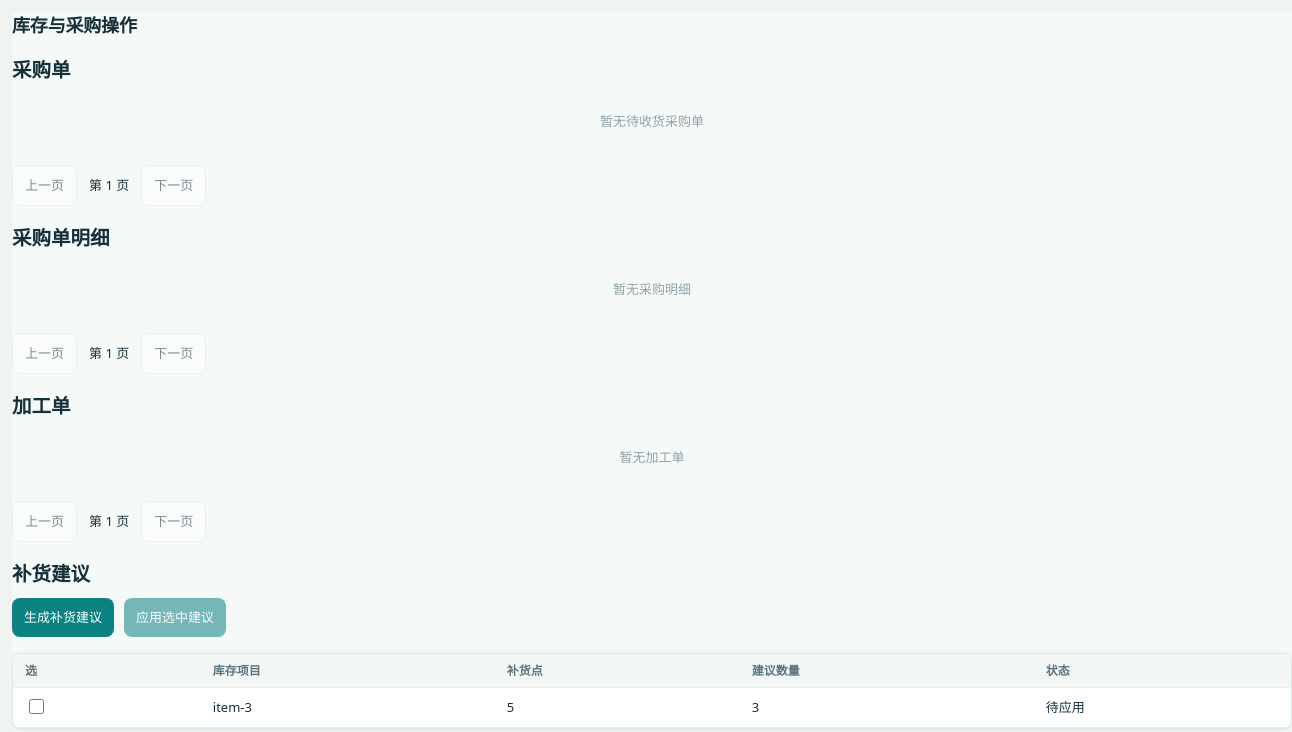
Test case: InventoryWorkflowPage › uses a generic message for non-error workflow failures
Click the checkbox: (36, 707) left=29, top=700, right=44, bottom=714
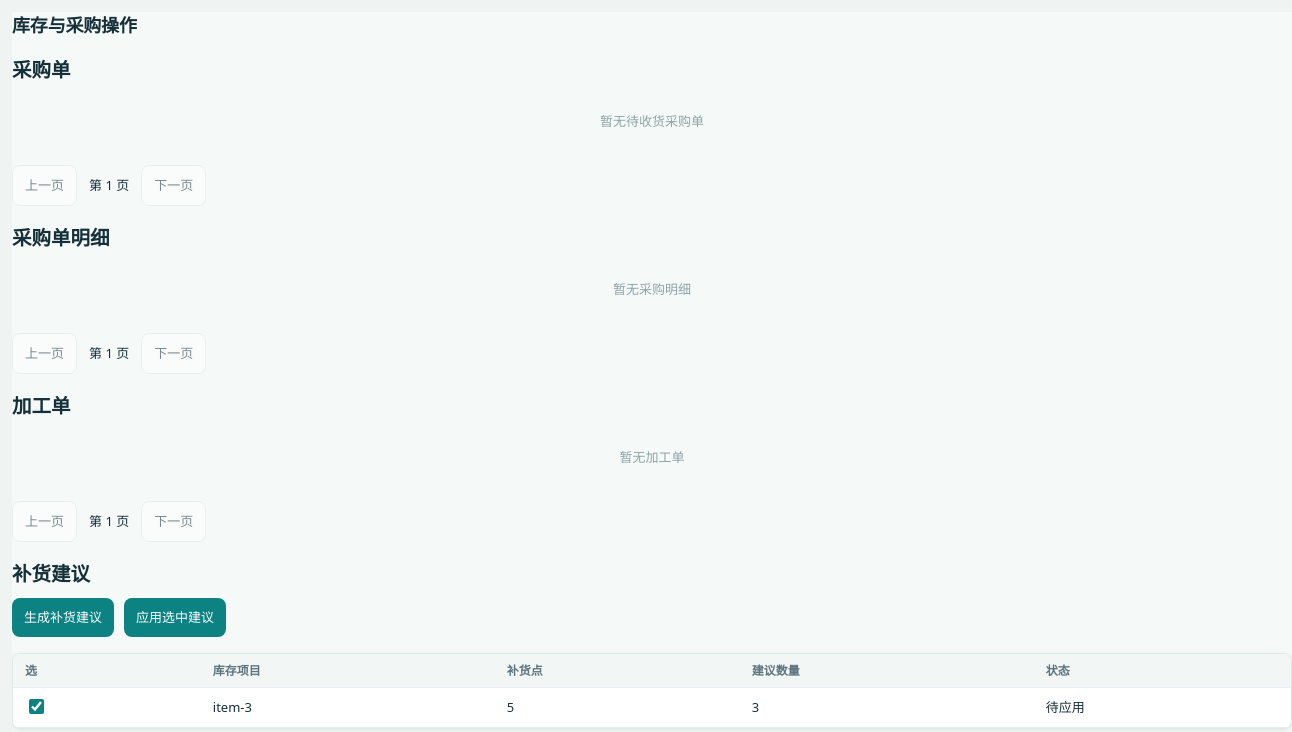
Click the button "应用选中建议": (175, 618) left=124, top=598, right=226, bottom=637
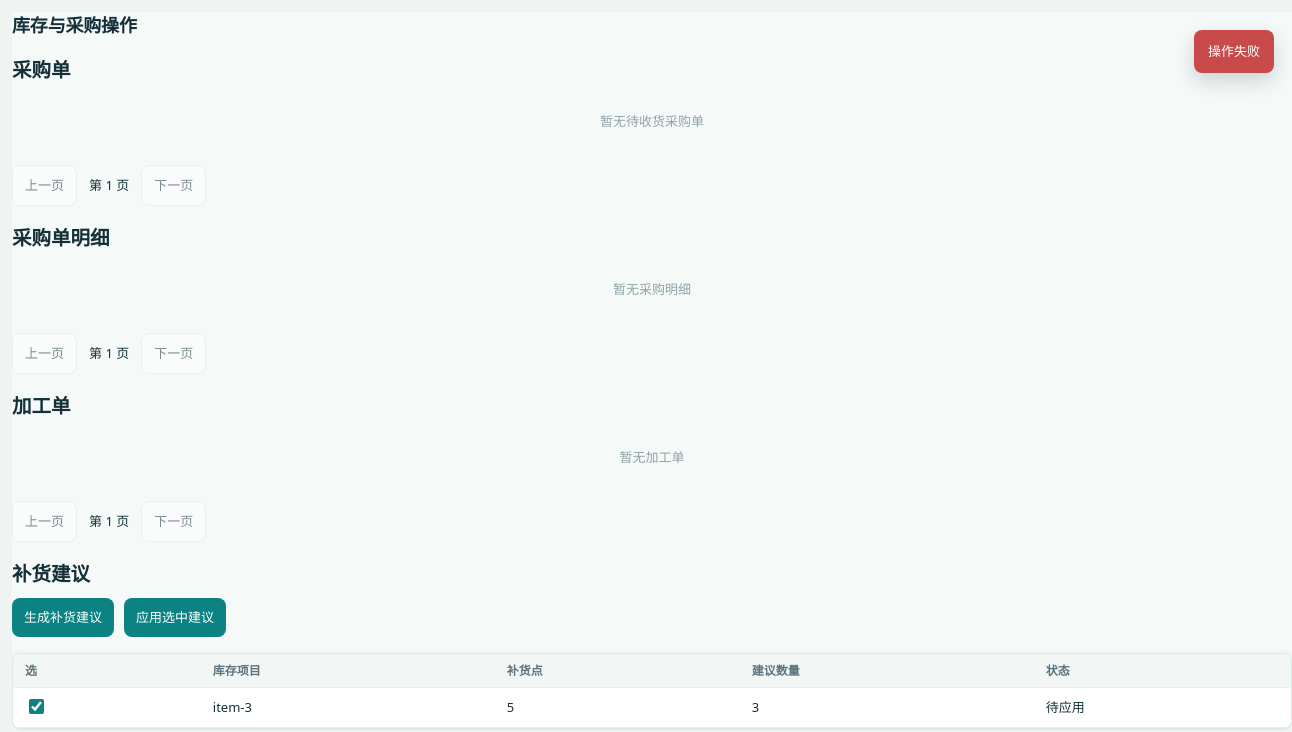
Check: the text "操作失败" is shown, box left=1194, top=30, right=1274, bottom=73
